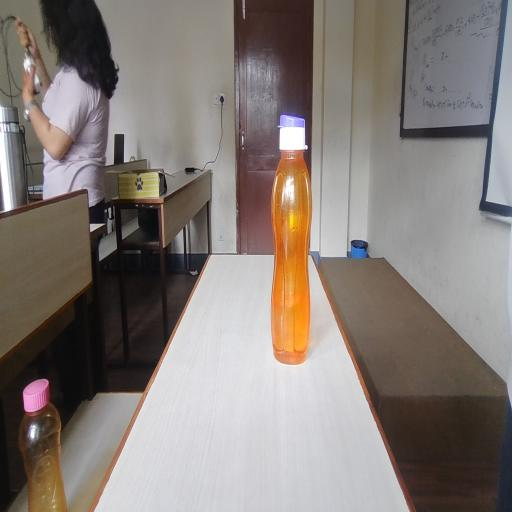Bottle: (268, 103, 335, 415), (16, 375, 74, 511)
